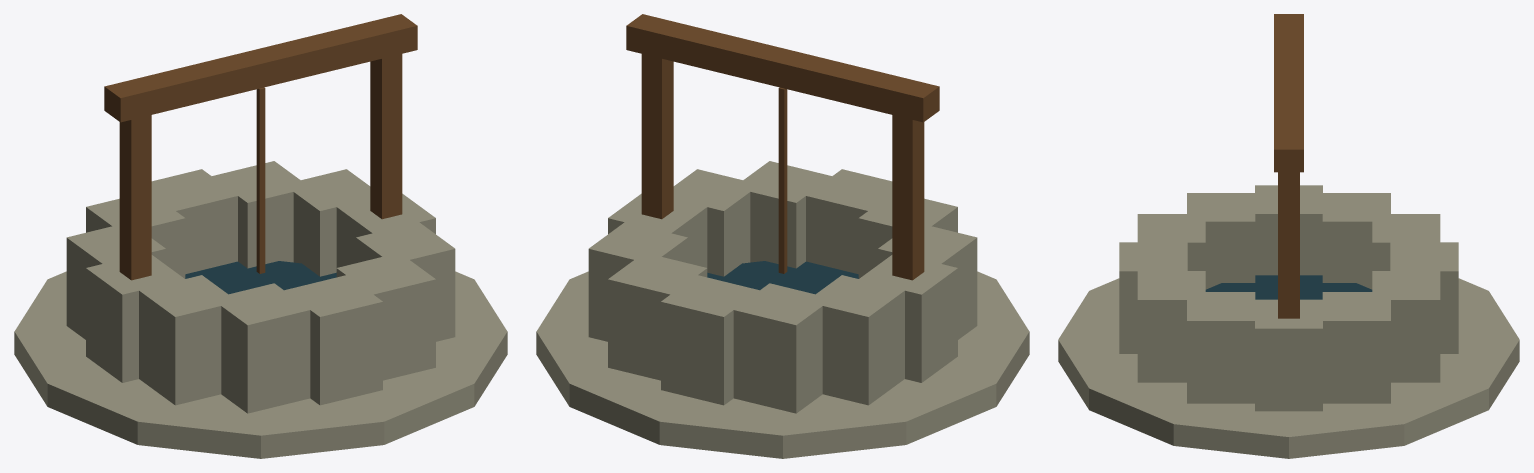
Rendered from stone_well.glb.
3 renders of one model, left to right at view 1: azimuth 30°, elevation 25°; view 2: azimuth 150°, elevation 25°; view 3: azimuth 270°, elevation 25°, orthographic. The views are drawn at different scales.
Visible parts, largest first — view 1: stone_well; view 2: stone_well; view 3: stone_well.
Part boxes in pixels (<box>): stone_well: <box>14,14,507,458</box>; stone_well: <box>536,14,1029,458</box>; stone_well: <box>1058,14,1519,458</box>.
Bounding box in the file's own units: 4.6 × 3.08 × 4.6.
